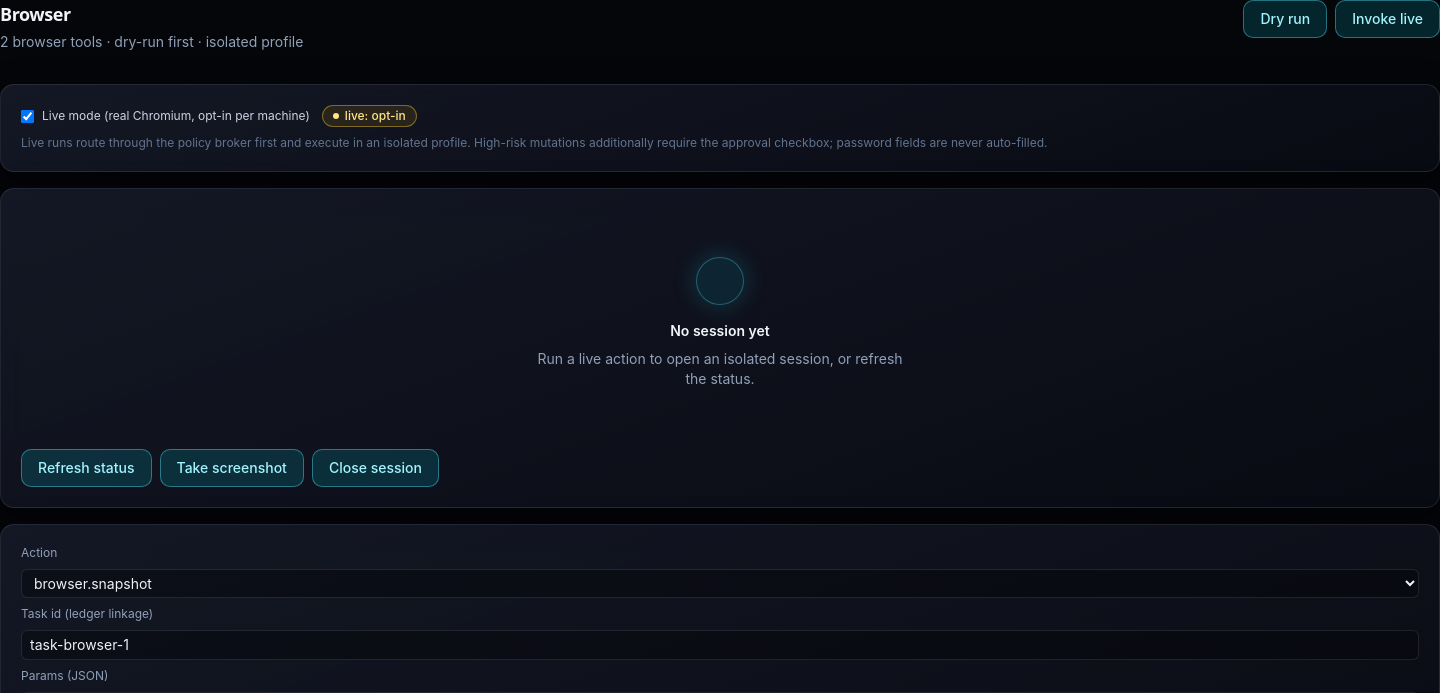
BrowserPage › closes sessions and surfaces worker crashes
Click the button "Close session". click: click(375, 468)
box: [312, 449, 439, 487]
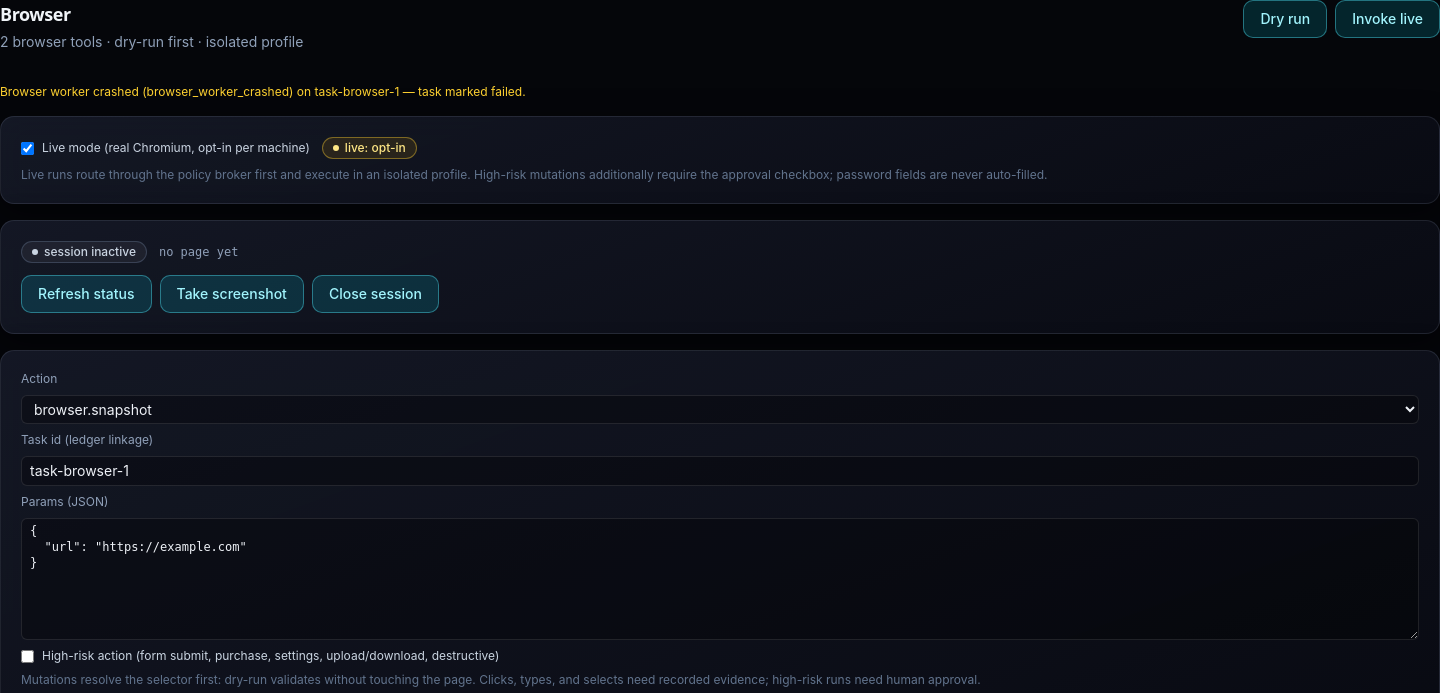
Expected: the text "Browser worker crashed" is shown, [0, 84, 526, 99]
